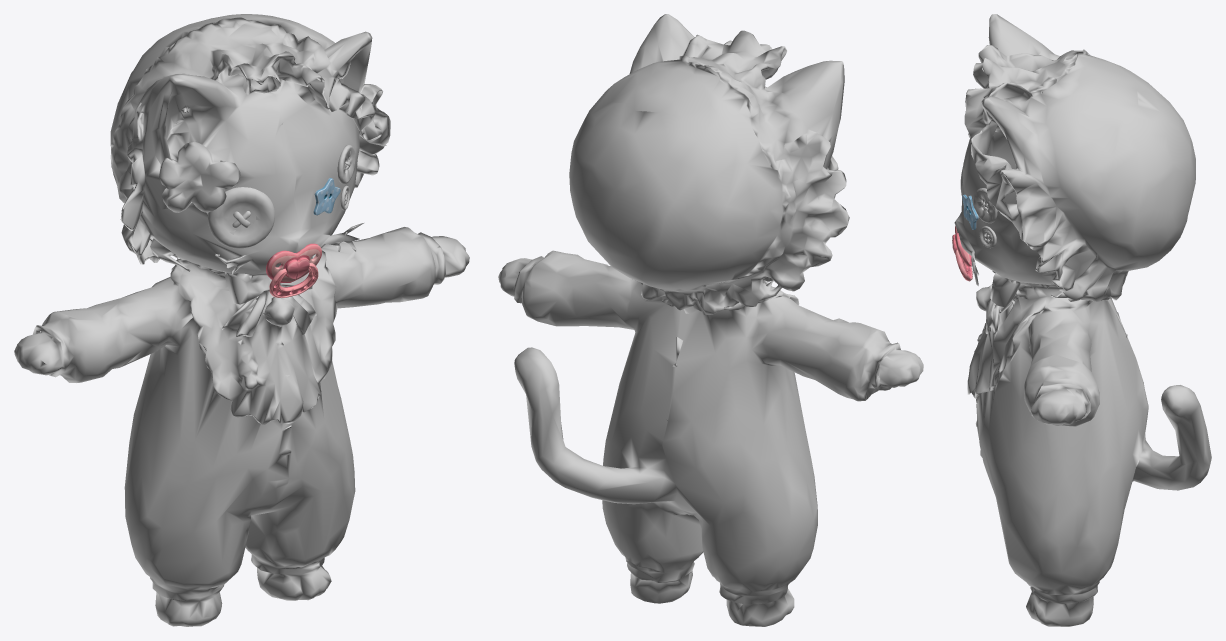
File: Kitty.FBX
3 views of the same model, side by side, from view 1: azimuth 30°, elevation 25°; view 2: azimuth 150°, elevation 25°; view 3: azimuth 270°, elevation 25° (orthographic). The views are drawn at different scales.
Visible parts, largest first — view 1: Meshy_AI_Lace_Belle_Kitty_0803004158_texture, Meshy_AI_Pink_starry_patch_wit_0803004241_texture, Meshy_AI_Pink_Heart_Pacifier_0803004845_texture, Meshy_AI_Polka_Dot_Star_Button_0803004409_texture; view 2: Meshy_AI_Lace_Belle_Kitty_0803004158_texture; view 3: Meshy_AI_Lace_Belle_Kitty_0803004158_texture, Meshy_AI_Yellow_polka_dot_butt_0803004008_texture, Meshy_AI_Pink_Heart_Pacifier_0803004845_texture.
Boxes of the visible parts, bbox=[...] form: Meshy_AI_Lace_Belle_Kitty_0803004158_texture: bbox=[14, 14, 469, 626]; Meshy_AI_Pink_starry_patch_wit_0803004241_texture: bbox=[208, 187, 274, 248]; Meshy_AI_Pink_Heart_Pacifier_0803004845_texture: bbox=[266, 243, 321, 297]; Meshy_AI_Polka_Dot_Star_Button_0803004409_texture: bbox=[313, 178, 340, 215]; Meshy_AI_Lace_Belle_Kitty_0803004158_texture: bbox=[498, 14, 923, 626]; Meshy_AI_Lace_Belle_Kitty_0803004158_texture: bbox=[954, 14, 1211, 626]; Meshy_AI_Yellow_polka_dot_butt_0803004008_texture: bbox=[973, 188, 997, 223]; Meshy_AI_Pink_Heart_Pacifier_0803004845_texture: bbox=[952, 226, 972, 281].
Bounding box in the file's own units: 1.52 × 1.9 × 0.837.
